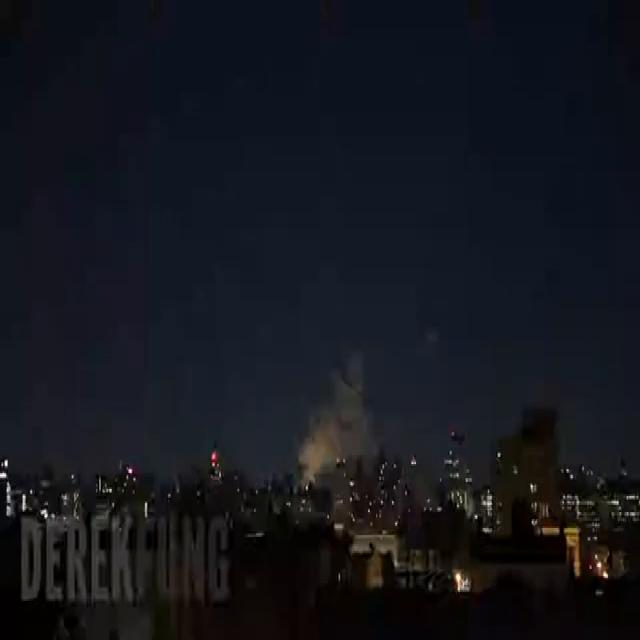smoke: (298, 354, 376, 478), (426, 331, 436, 341)
